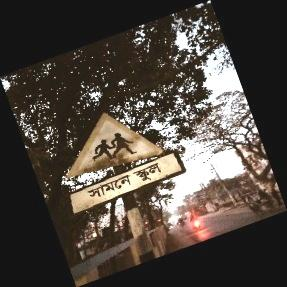School-in-front: (65, 112, 181, 215)
